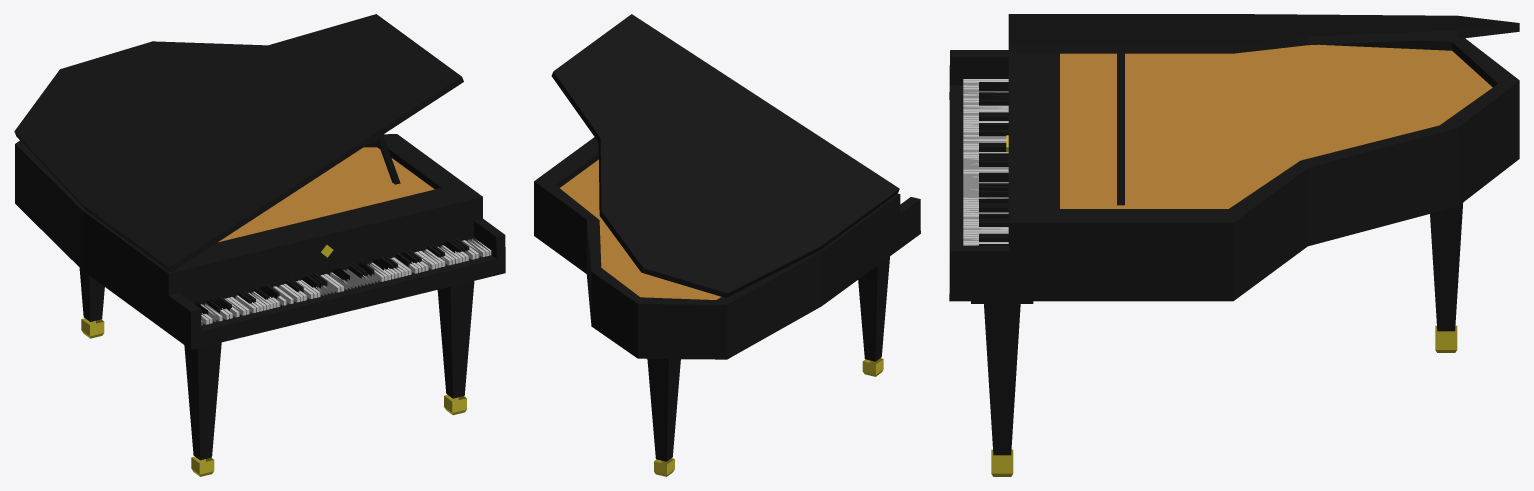
The model's file is piano.fbx.
3 views of the same model, side by side, from view 1: azimuth 30°, elevation 25°; view 2: azimuth 150°, elevation 25°; view 3: azimuth 270°, elevation 25° (orthographic). The views are drawn at different scales.
Visible parts, largest first — view 1: piano_Cube.029; view 2: piano_Cube.029; view 3: piano_Cube.029.
Part boxes in pixels (bbox=[...]): piano_Cube.029: bbox=[14, 14, 505, 476]; piano_Cube.029: bbox=[534, 14, 920, 476]; piano_Cube.029: bbox=[949, 14, 1519, 476].
Size of the model in its own units: 0.8358 by 0.8398 by 1.
